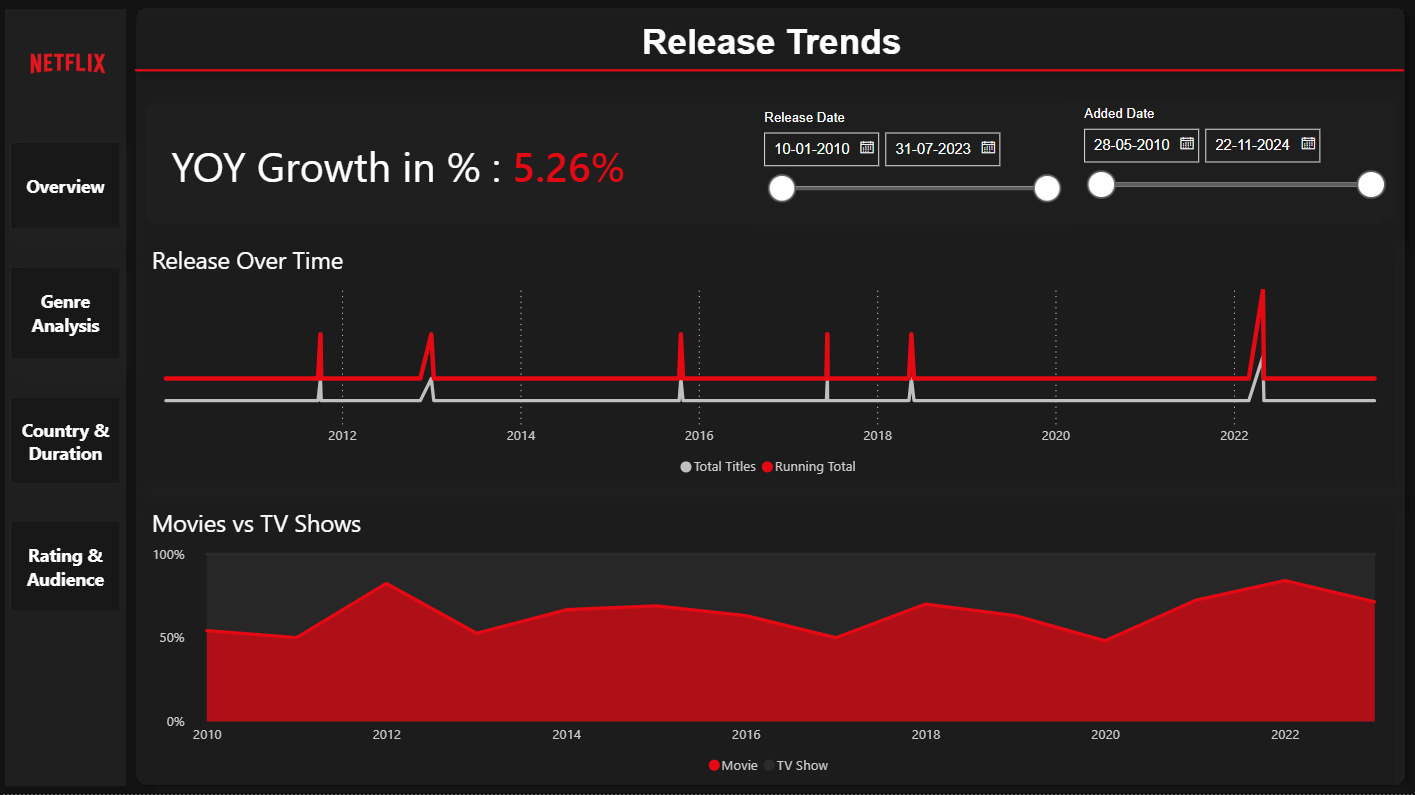

Layout of this report page (visuals, bound fields, positions):
{"tool":"powerbi","page":{"name":"Release Trends","canvas":[1280,720],"ordinal":4},"visuals":[{"type":"shape","box":[114.1,0,1165.9,720.7],"z":0},{"type":"shape","box":[114.1,0,1165.9,77.9],"z":1000},{"type":"textbox","box":[555,16.9,285.9,45.8],"z":2000},{"type":"cardVisual","title":"Total Titles","fields":{"Data":["Measures Table.YOY Growth in % :"]},"box":[114.1,77.9,1156.2,144.7],"z":3000},{"type":"stackedAreaChart","title":"Release Over Time","fields":{"Y":["Measures Table.Total Titles","Measures Table.Running Total"],"Category":["Nithish.Release Date"]},"box":[132.7,222,1129.2,220.8],"z":4000},{"type":"hundredPercentStackedAreaChart","title":"Movies vs TV Shows","fields":{"Y":["CountNonNull(Nithish.Title)"],"Series":["Nithish.Type"],"Category":["Nithish.Release Date.Variation.Date Hierarchy.Year","Nithish.Release Date.Variation.Date Hierarchy.Quarter","Nithish.Release Date.Variation.Date Hierarchy.Month","Nithish.Release Date.Variation.Date Hierarchy.Day"]},"box":[131.7,459.7,1129.3,252.5],"z":5000},{"type":"shape","box":[122.4,0,1147.8,130.8],"z":6000},{"type":"shape","box":[4.2,9.7,109.9,702.6],"z":7000},{"type":"actionButton","box":[9.3,473,100.2,82.7],"z":8000},{"type":"actionButton","box":[9.3,360.3,100.2,79.2],"z":9000},{"type":"actionButton","box":[9.3,130.5,100.2,79.2],"z":10000},{"type":"actionButton","box":[9.3,243.1,100.2,83.9],"z":11000},{"type":"slicer","fields":{"Values":["Nithish.Date_Added"]},"box":[968.3,93.2,293.6,107.1],"z":12000},{"type":"slicer","fields":{"Values":["Nithish.Release Date"]},"box":[679,96,289.4,108.5],"z":13000},{"type":"image","box":[0,0,122.4,124.7],"z":14000}]}

Visuals, with their boxes on the page's 1280x720 design canvas (x1, y1, x2, y2). These are canvas units, not pixel positions in the 1415x795 screenshot, which may show the page scaled, cropped or inside an application window:
shape: detection(114, 0, 1280, 721)
shape: detection(114, 0, 1280, 78)
textbox: detection(555, 17, 841, 63)
"Total Titles" cardVisual: detection(114, 78, 1270, 223)
"Release Over Time" stackedAreaChart: detection(133, 222, 1262, 443)
"Movies vs TV Shows" hundredPercentStackedAreaChart: detection(132, 460, 1261, 712)
shape: detection(122, 0, 1270, 131)
shape: detection(4, 10, 114, 712)
actionButton: detection(9, 473, 110, 556)
actionButton: detection(9, 360, 110, 440)
actionButton: detection(9, 130, 110, 210)
actionButton: detection(9, 243, 110, 327)
slicer - Nithish.Date_Added: detection(968, 93, 1262, 200)
slicer - Nithish.Release Date: detection(679, 96, 968, 204)
image: detection(0, 0, 122, 125)
